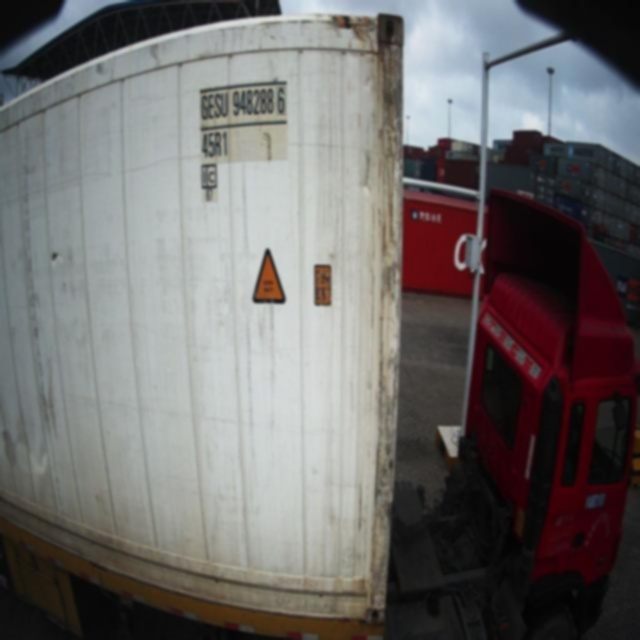Dent: (14, 418, 57, 495)
